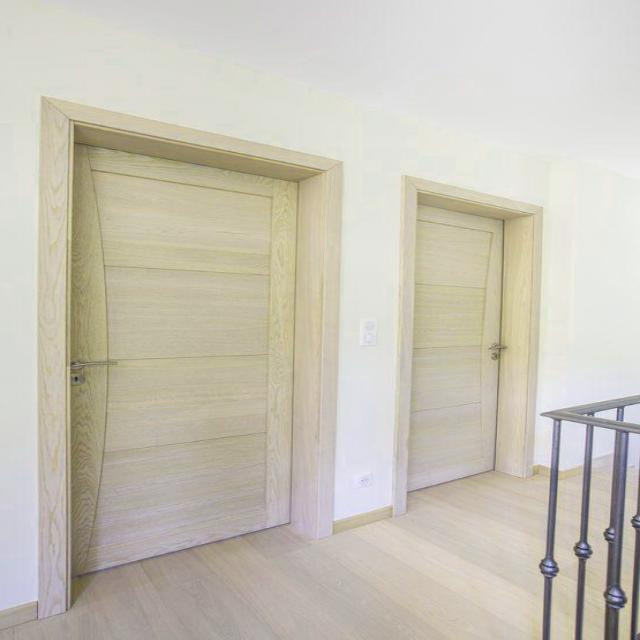door: (37, 86, 361, 626), (388, 165, 564, 524)
